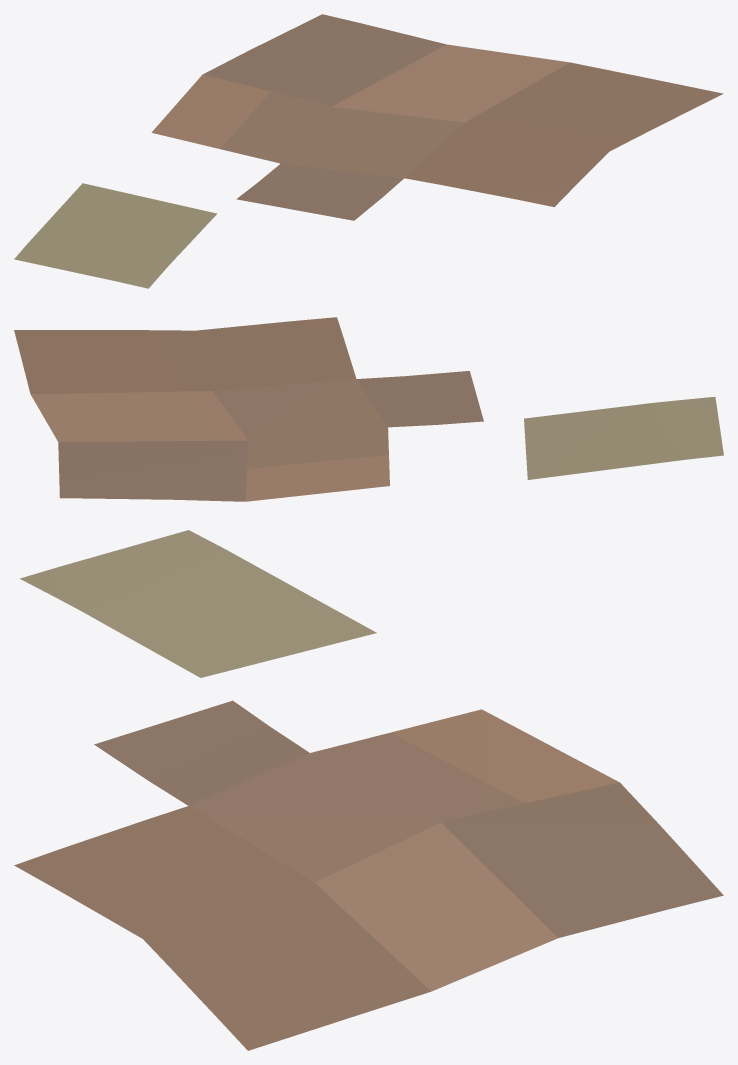
Rendered from farm_30_14_soil.glb.
The picture shows the model from 3 angles, top to bottom: view 1: azimuth 30°, elevation 25°; view 2: azimuth 150°, elevation 25°; view 3: azimuth 270°, elevation 25°; orthographic projection. The views are drawn at different scales.
Visible parts, largest first — view 1: geometry_0; view 2: geometry_0; view 3: geometry_0.
Boxes of the visible parts, bbox=[...] form: geometry_0: bbox=[14, 14, 723, 288]; geometry_0: bbox=[14, 317, 723, 501]; geometry_0: bbox=[14, 530, 723, 1050].
Size of the model in its own units: 213 by 8.05 by 132.
